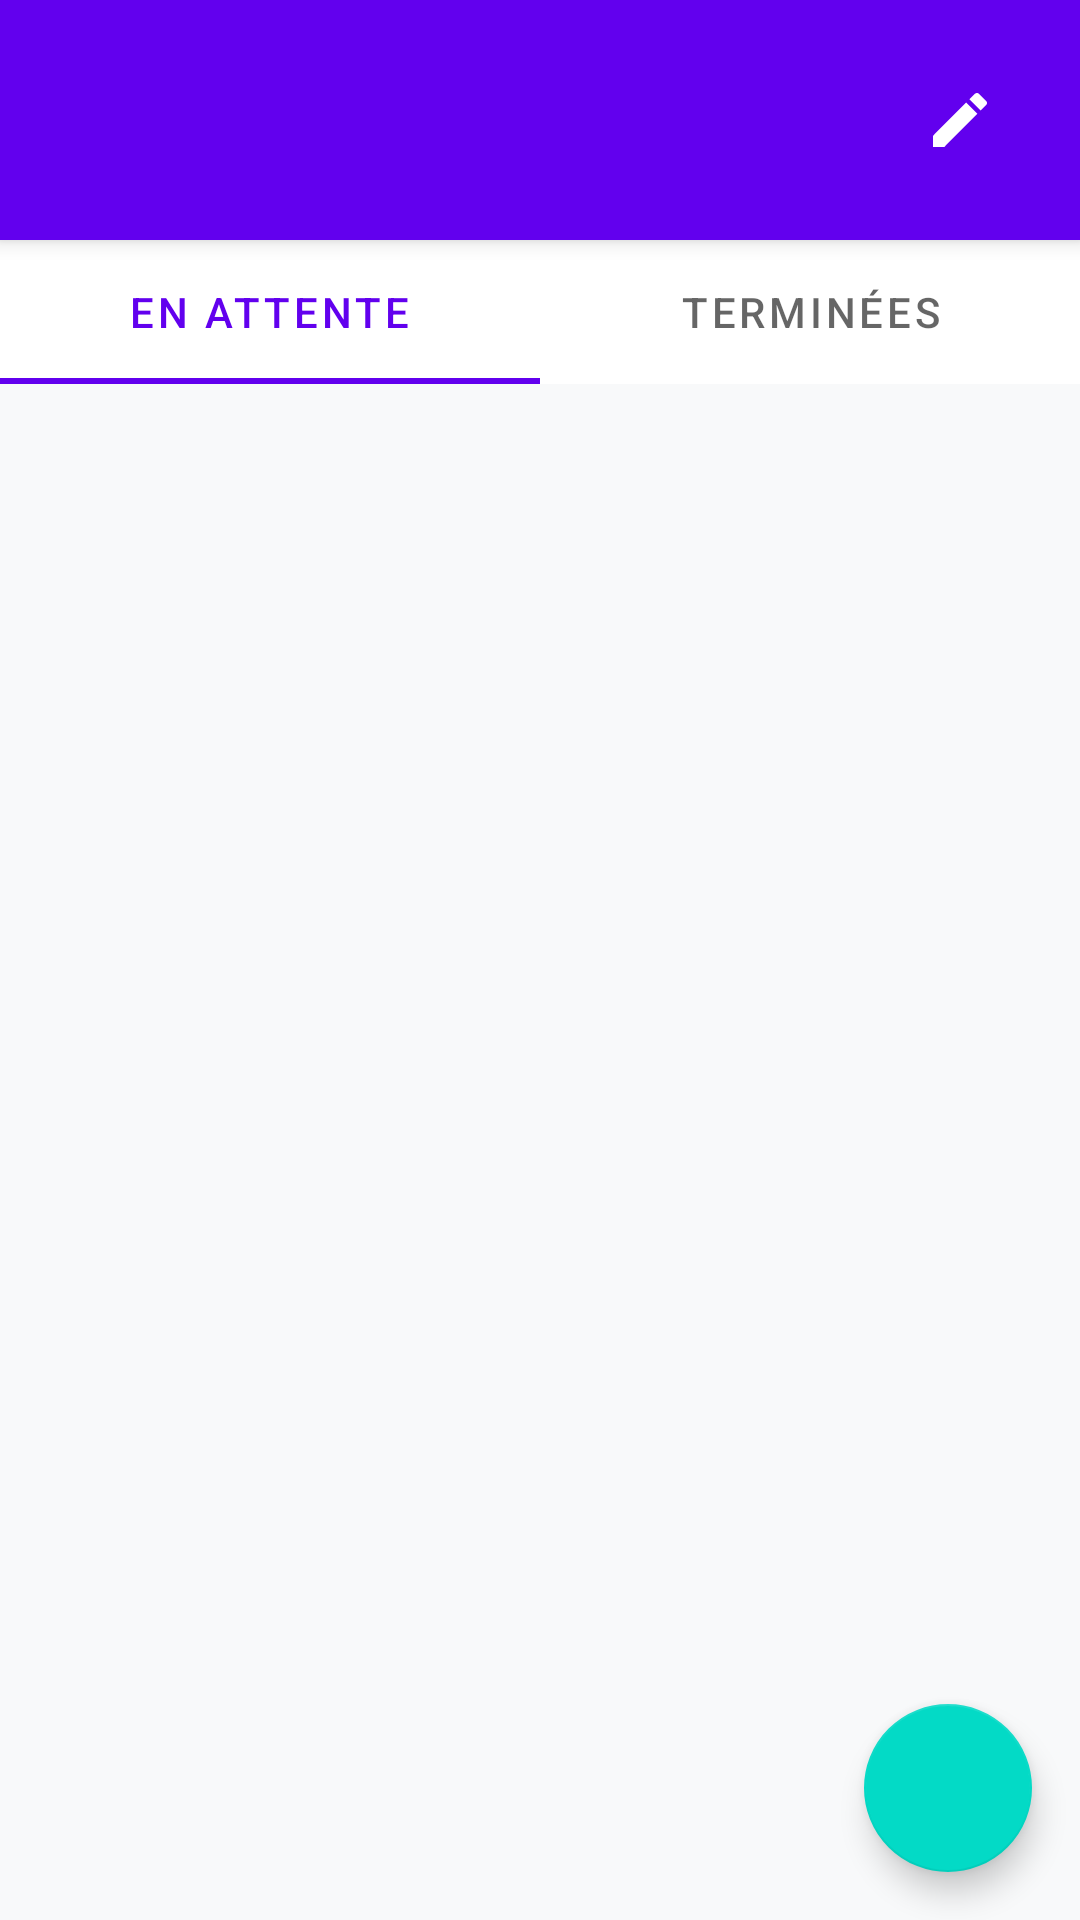

Screen size 1080×1920. Icon name, then its center in pixels as (x,y):
Modifier la catégorie: (960,120)
